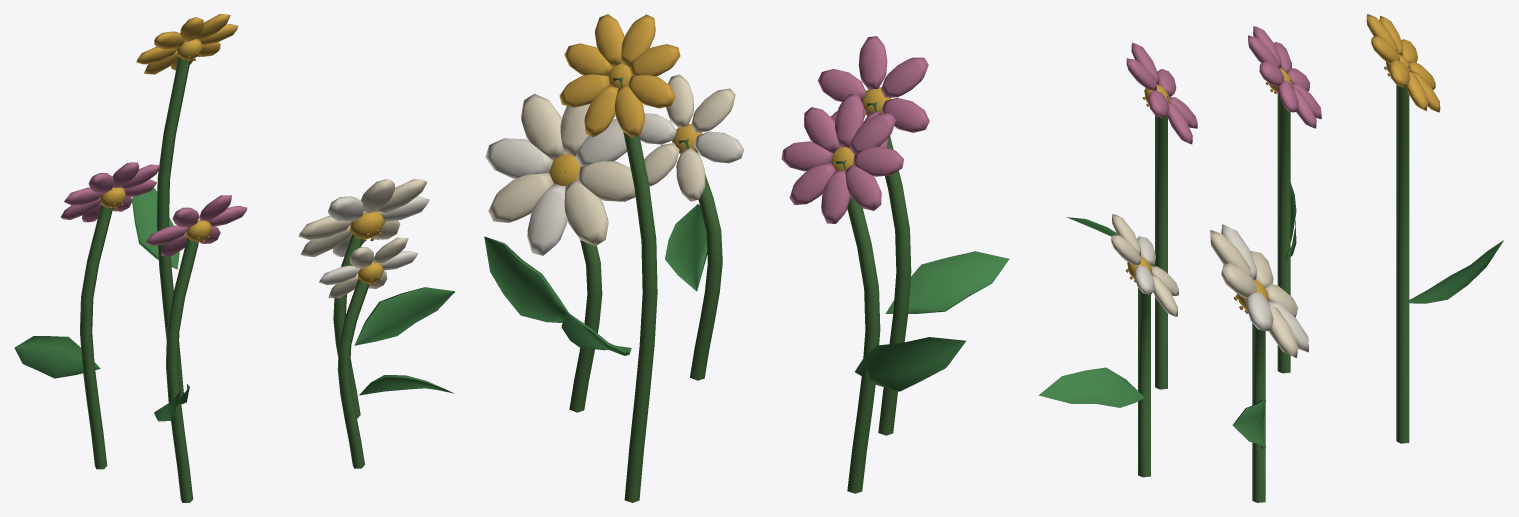
Rendered from flores_pradera.glb.
3 views of the same model, side by side, from view 1: azimuth 30°, elevation 25°; view 2: azimuth 150°, elevation 25°; view 3: azimuth 270°, elevation 25° (orthographic). The views are drawn at different scales.
Visible parts, largest first — view 1: flores_pradera_tallos_0; view 2: flores_pradera_tallos_0; view 3: flores_pradera_tallos_0.
Boxes of the visible parts, x1=… form: flores_pradera_tallos_0: x1=14, y1=14, x2=454, y2=502; flores_pradera_tallos_0: x1=484, y1=14, x2=1009, y2=502; flores_pradera_tallos_0: x1=1038, y1=14, x2=1503, y2=502.
Size of the model in its own units: 0.5176 by 0.4579 by 0.4521.
